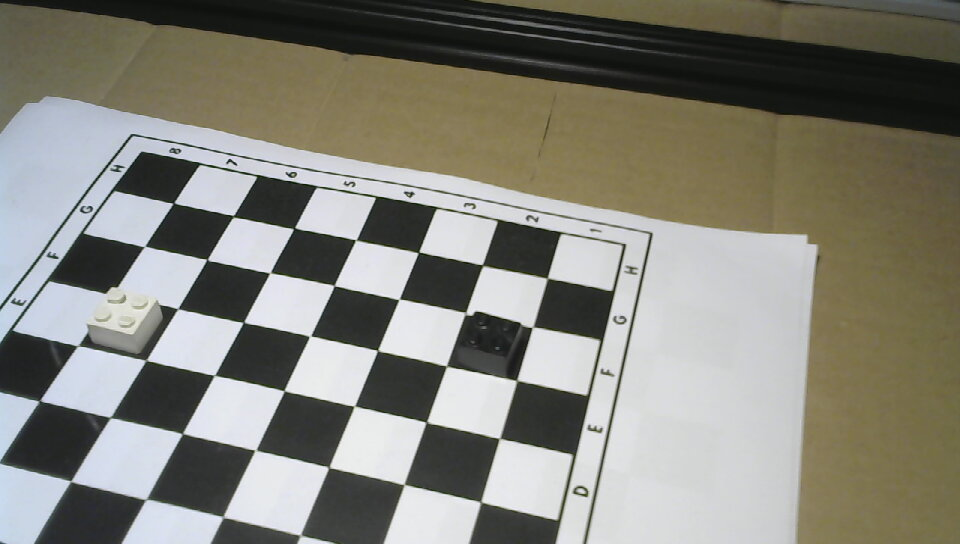bp: (453, 306, 526, 379)
